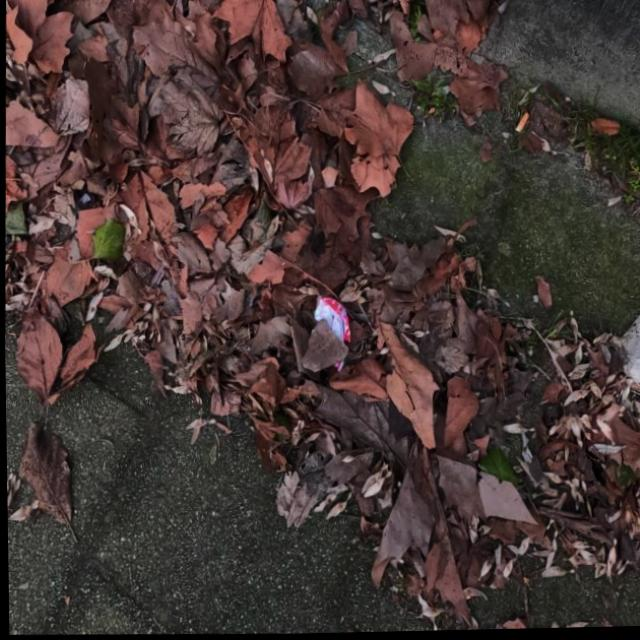Plastic: (311, 296, 350, 374)
